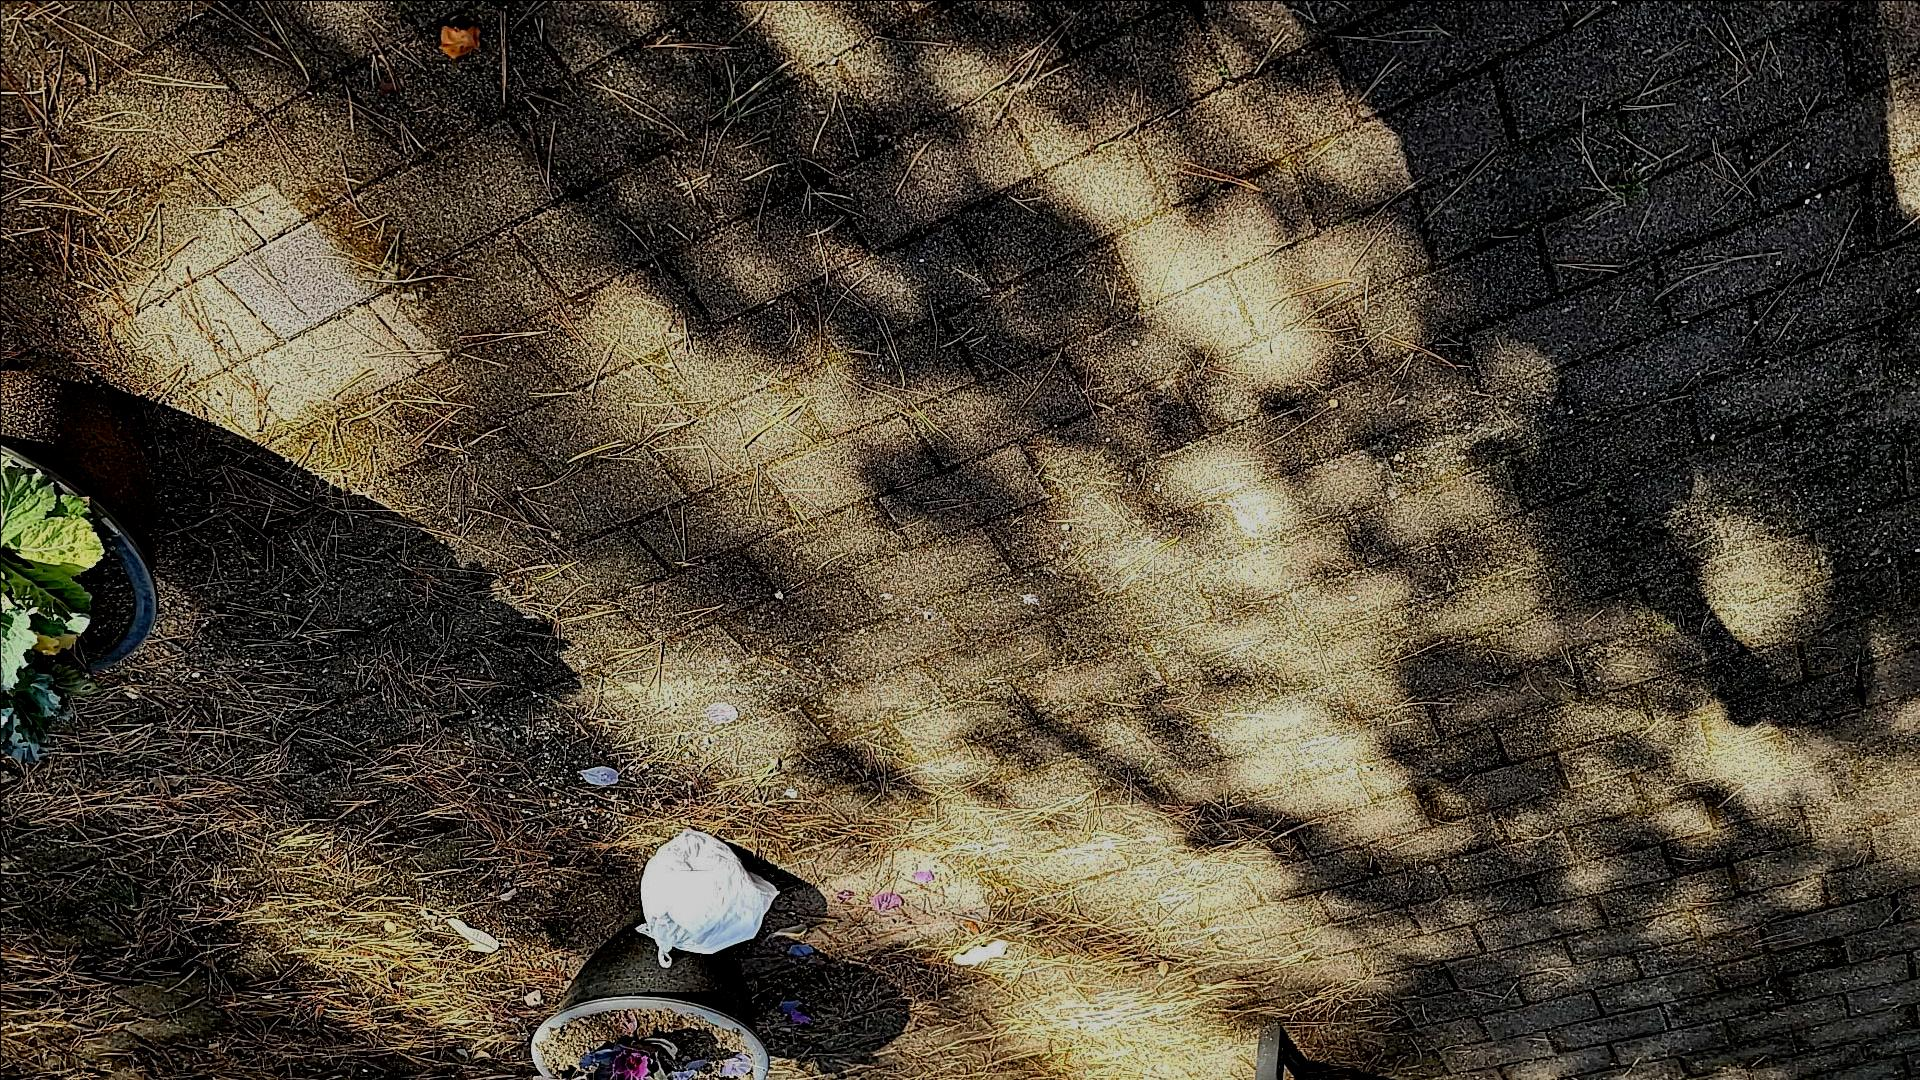white_bag: (618, 808, 793, 981)
